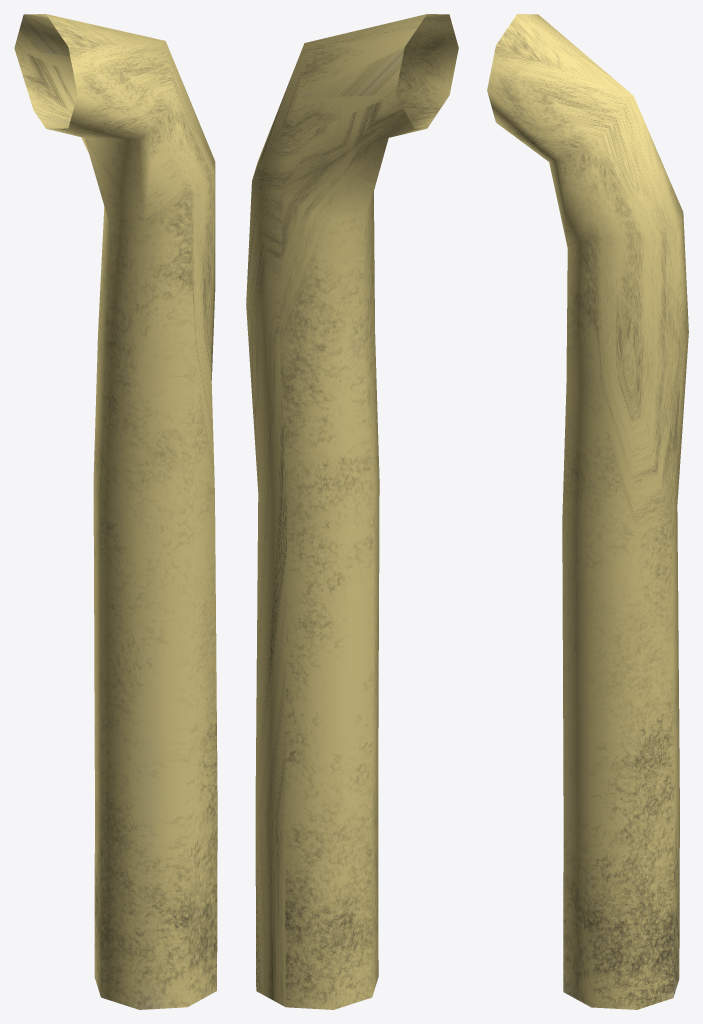
The model's file is pipe with texture.fbx.
The picture shows the model from 3 angles, left to right: view 1: azimuth 30°, elevation 25°; view 2: azimuth 150°, elevation 25°; view 3: azimuth 330°, elevation 25°; orthographic projection. The views are drawn at different scales.
Visible parts, largest first — view 1: nurbsToPoly1; view 2: nurbsToPoly1; view 3: nurbsToPoly1.
Boxes of the visible parts, x1,y1,x2,y2 form: nurbsToPoly1: [14, 14, 217, 1009]; nurbsToPoly1: [246, 14, 458, 1009]; nurbsToPoly1: [487, 14, 688, 1009].
Bounding box in the file's own units: 2.51 × 13.98 × 1.61.
